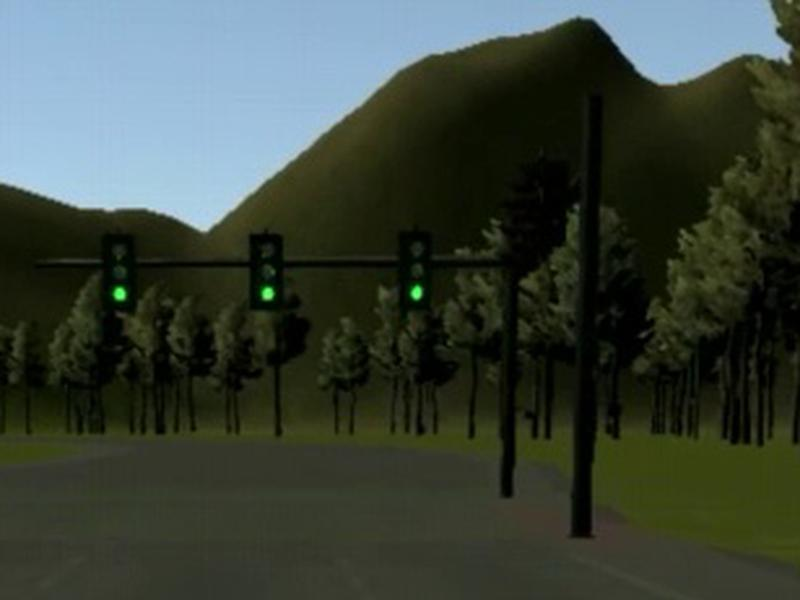Green: (248, 234, 285, 311), (101, 234, 138, 310), (398, 230, 432, 309)
